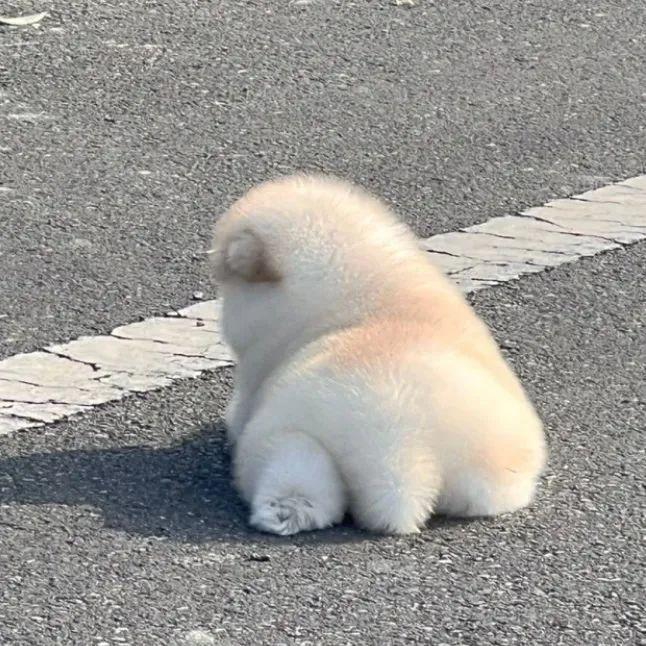puppy-dog: (207, 173, 550, 540)
